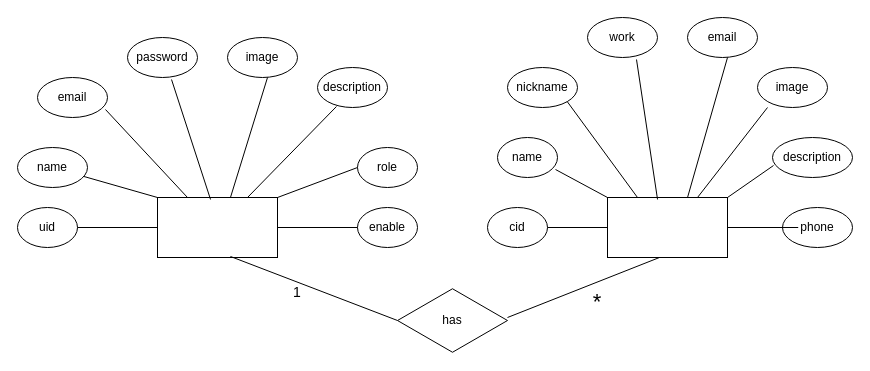
Image size: 870x371. Some labels were removed from this diagram. Here are the shapes that lost their labels. From the top down, the box of each, then its label:
(156, 196, 278, 258): user
(606, 196, 728, 258): contact
